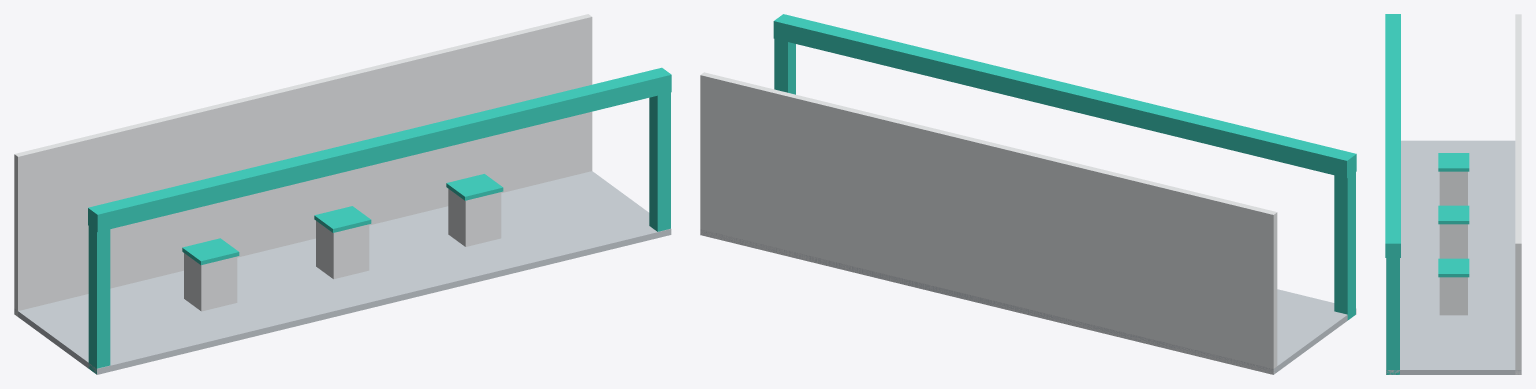
3 views of the same model, side by side, from view 1: azimuth 30°, elevation 25°; view 2: azimuth 150°, elevation 25°; view 3: azimuth 270°, elevation 25° (orthographic). The views are drawn at different scales.
Visible parts, largest first — view 1: Exhibition Booth Concept; view 2: Exhibition Booth Concept; view 3: Exhibition Booth Concept.
Part boxes in pixels (<box>): Exhibition Booth Concept: <box>14,14,671,374</box>; Exhibition Booth Concept: <box>700,14,1356,374</box>; Exhibition Booth Concept: <box>1385,14,1521,374</box>.
Size of the model in its own units: 12 by 3.2 by 3.01.
